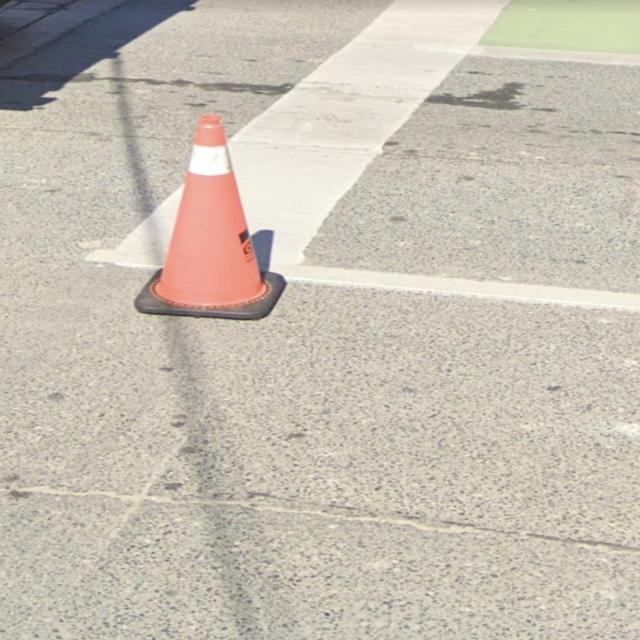Traffic Cone: (133, 112, 291, 320)
